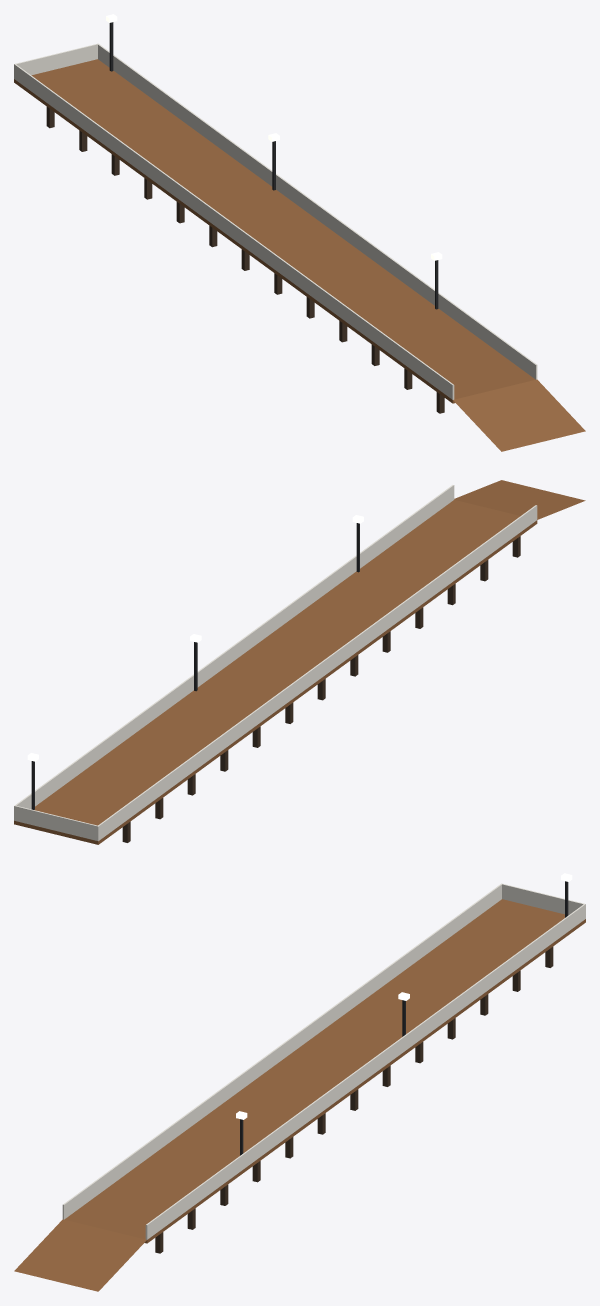
File: bld_bh_pier.glb
3 views of the same model, one above another, from view 1: azimuth 30°, elevation 25°; view 2: azimuth 150°, elevation 25°; view 3: azimuth 330°, elevation 25° (orthographic).
Visible parts, largest first — view 1: bld_bh_pier; view 2: bld_bh_pier; view 3: bld_bh_pier.
Part boxes in pixels (box(x1,y1,x2,y2)): bld_bh_pier: box(14, 14, 585, 451); bld_bh_pier: box(14, 480, 585, 844); bld_bh_pier: box(14, 873, 585, 1291).
Size of what is drawn, in the model's own units: 6.06 by 5.4 by 60.
